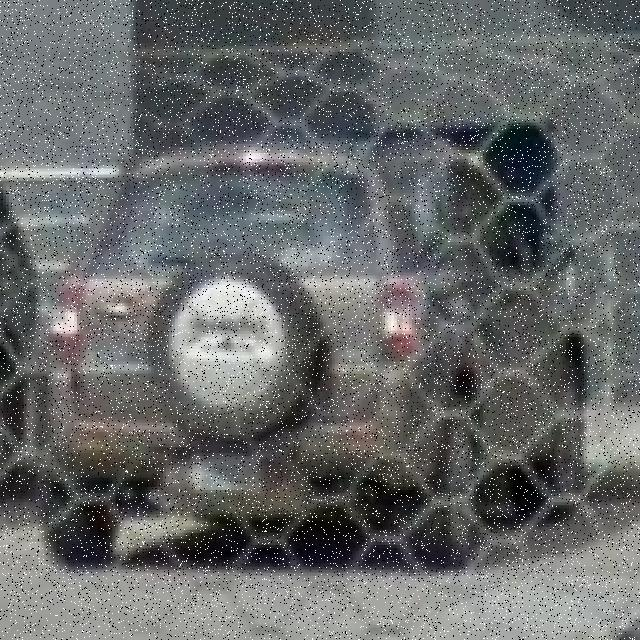cars: (45, 114, 598, 573)
